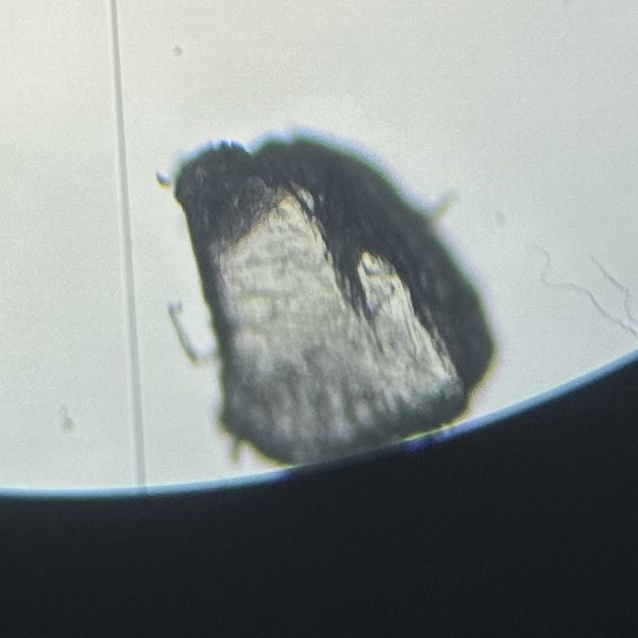microplastic: (152, 133, 502, 469)
